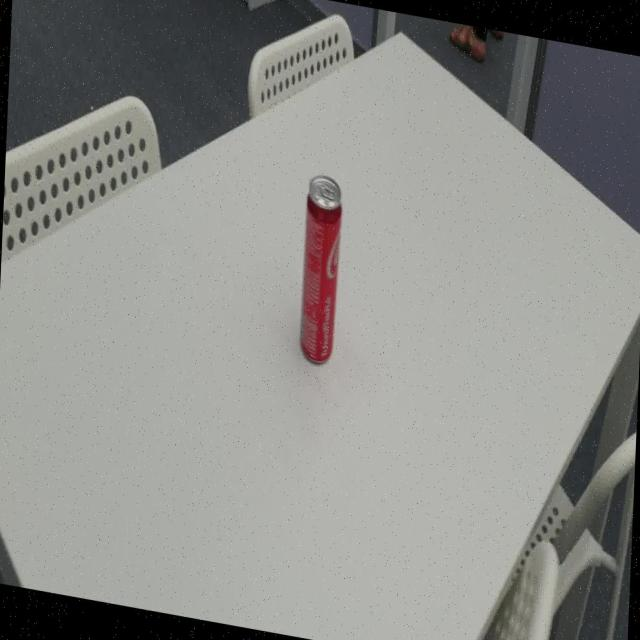coca-cola: (297, 169, 344, 374)
